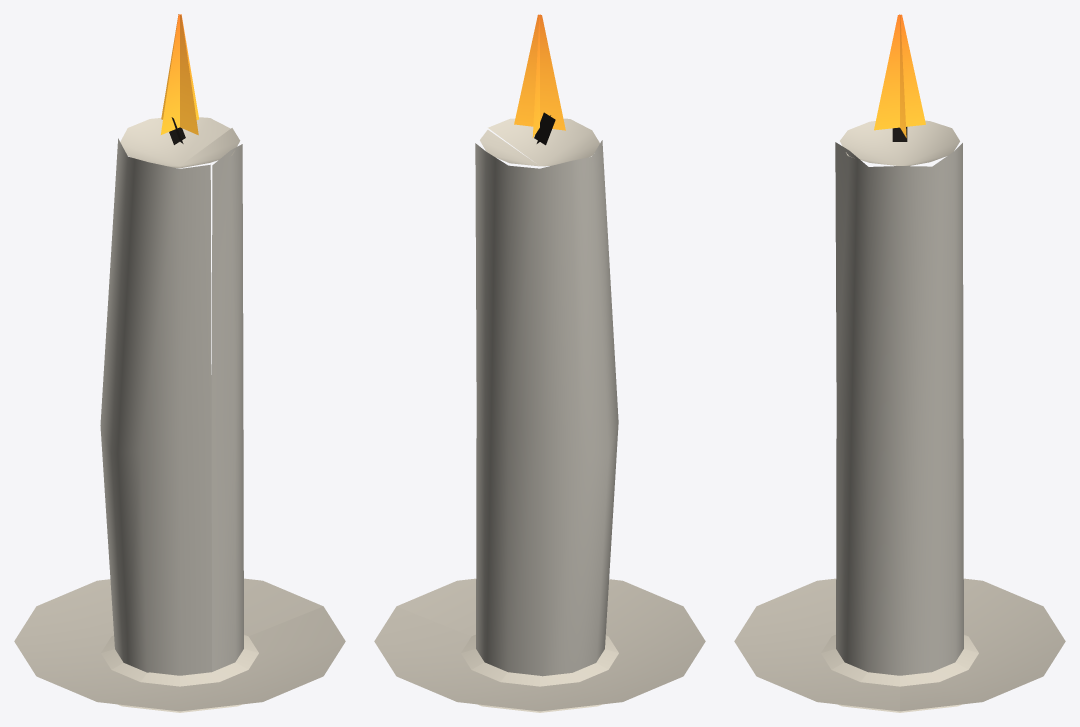
File: SM_Candle_Burnt.glb
3 renders of one model, left to right at view 1: azimuth 30°, elevation 25°; view 2: azimuth 150°, elevation 25°; view 3: azimuth 270°, elevation 25°, orthographic.
Visible parts, largest first — view 1: than_nen_Burnt, dia_nen_Burnt, mieng_nen_Burnt, vung_sap_dong, SM_Flame_Candle_quad0, SM_Flame_Candle_quad1; view 2: than_nen_Burnt, dia_nen_Burnt, mieng_nen_Burnt, SM_Flame_Candle_quad0, vung_sap_dong; view 3: than_nen_Burnt, dia_nen_Burnt, mieng_nen_Burnt, SM_Flame_Candle_quad1, vung_sap_dong.
Boxes of the visible parts, <box> form: than_nen_Burnt: <box>100,138,243,675</box>; dia_nen_Burnt: <box>14,578,345,711</box>; mieng_nen_Burnt: <box>120,117,240,168</box>; vung_sap_dong: <box>101,634,258,712</box>; SM_Flame_Candle_quad0: <box>161,14,198,134</box>; SM_Flame_Candle_quad1: <box>161,14,198,135</box>; than_nen_Burnt: <box>475,140,618,676</box>; dia_nen_Burnt: <box>374,578,705,711</box>; mieng_nen_Burnt: <box>480,118,599,166</box>; SM_Flame_Candle_quad0: <box>514,14,565,130</box>; vung_sap_dong: <box>461,634,618,712</box>; than_nen_Burnt: <box>835,142,963,675</box>; dia_nen_Burnt: <box>734,578,1065,711</box>; mieng_nen_Burnt: <box>840,120,959,165</box>; SM_Flame_Candle_quad1: <box>874,14,925,130</box>; vung_sap_dong: <box>821,634,978,712</box>.
Size of the model in its own units: 0.08 by 0.1728 by 0.08.
